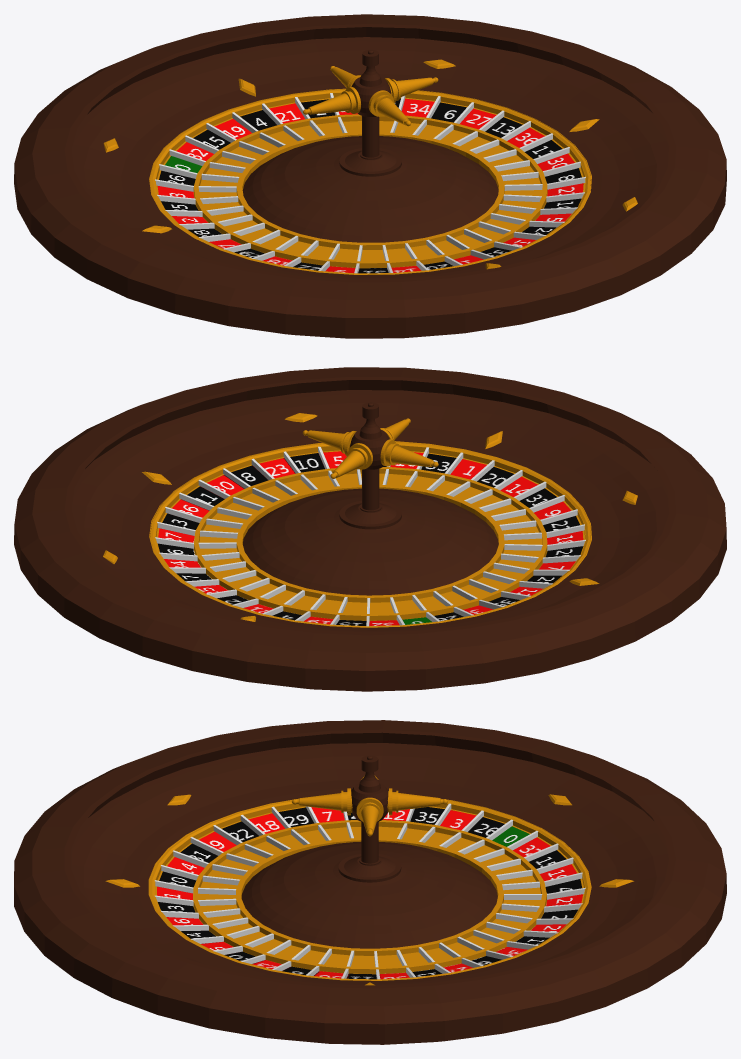
The model's file is Roulette_Table_V2.glb.
3 views of the same model, one above another, from view 1: azimuth 30°, elevation 25°; view 2: azimuth 150°, elevation 25°; view 3: azimuth 270°, elevation 25° (orthographic).
Parts seen in each view (by area): view 1: OuterCircle, InnerCircle, InnerPillar, Seperator, numbers, Circle.004, Circle.001, Circle.003; view 2: OuterCircle, InnerCircle, InnerPillar, Seperator, numbers, Circle.004, Circle.002, Circle.003; view 3: OuterCircle, InnerPillar, InnerCircle, Seperator, numbers, Circle.001, Circle.002, Circle.003.
Boxes of the visible parts, <box> form: OuterCircle: <box>14,14,726,338</box>; InnerCircle: <box>149,88,591,274</box>; InnerPillar: <box>242,49,498,242</box>; Seperator: <box>155,93,585,273</box>; numbers: <box>157,98,583,273</box>; Circle.004: <box>303,87,360,114</box>; Circle.001: <box>368,90,411,126</box>; Circle.003: <box>385,77,438,102</box>; OuterCircle: <box>14,367,726,691</box>; InnerCircle: <box>149,441,591,627</box>; InnerPillar: <box>242,402,498,595</box>; Seperator: <box>155,446,585,626</box>; numbers: <box>158,451,583,625</box>; Circle.004: <box>380,439,438,467</box>; Circle.002: <box>330,443,372,478</box>; Circle.003: <box>302,430,356,456</box>; OuterCircle: <box>14,720,726,1044</box>; InnerPillar: <box>241,755,497,948</box>; InnerCircle: <box>148,798,591,980</box>; Seperator: <box>154,803,585,979</box>; numbers: <box>157,807,582,979</box>; Circle.001: <box>292,788,352,815</box>; Circle.002: <box>387,788,447,815</box>; Circle.003: <box>356,797,383,836</box>.
Size of the model in its own units: 5.55 by 1.33 by 5.55.
3 materials, 1 textured.
